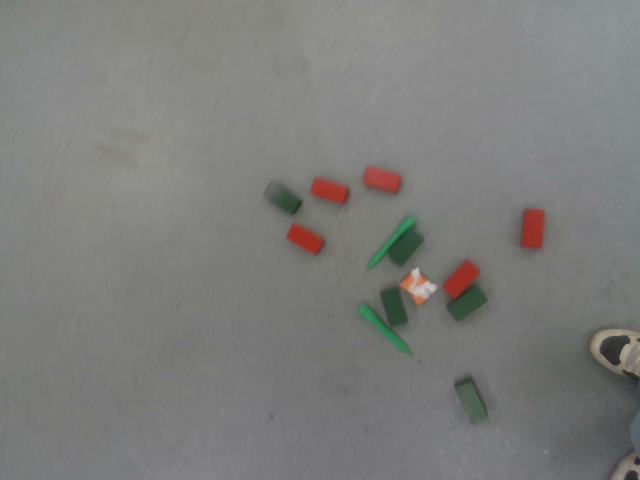Probe: (357, 302, 416, 358), (364, 215, 418, 273)
